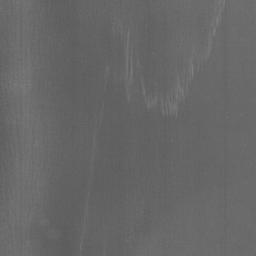Silk spot: (222, 0, 230, 24)
